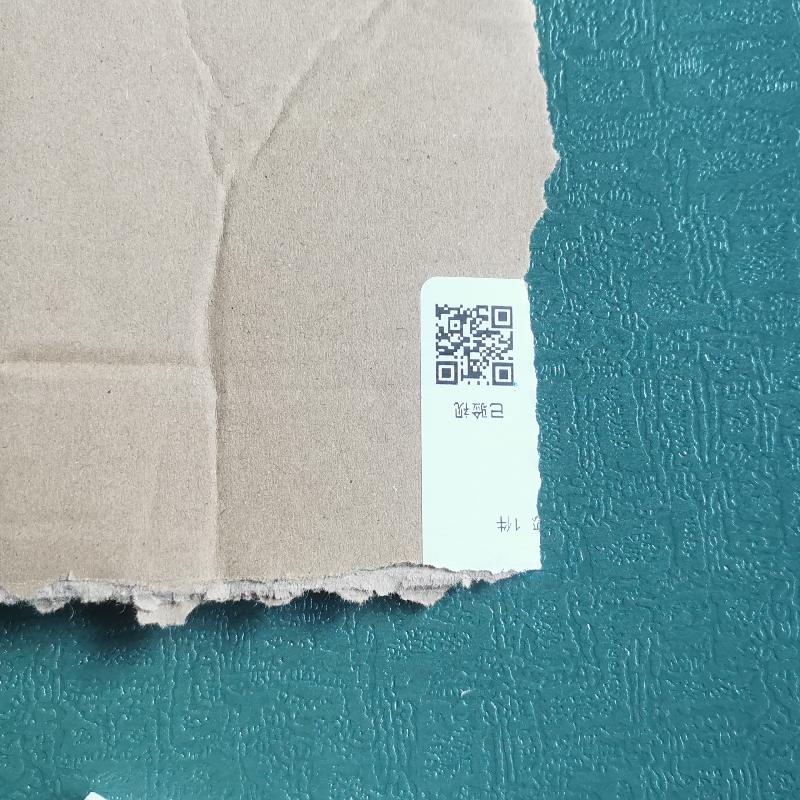boxes: (1, 0, 559, 627)
